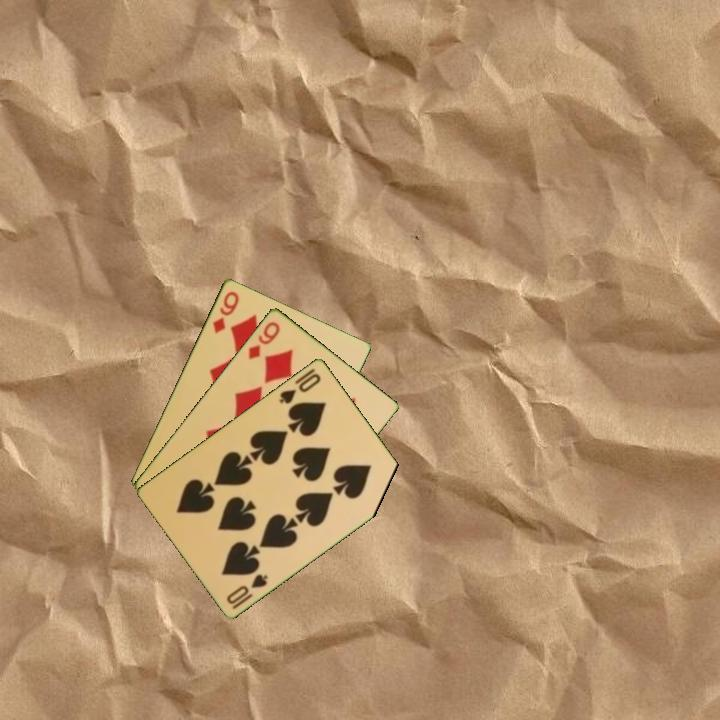10s: (223, 570, 271, 612), (276, 369, 324, 406)
9d: (244, 317, 283, 362), (208, 287, 242, 336)
